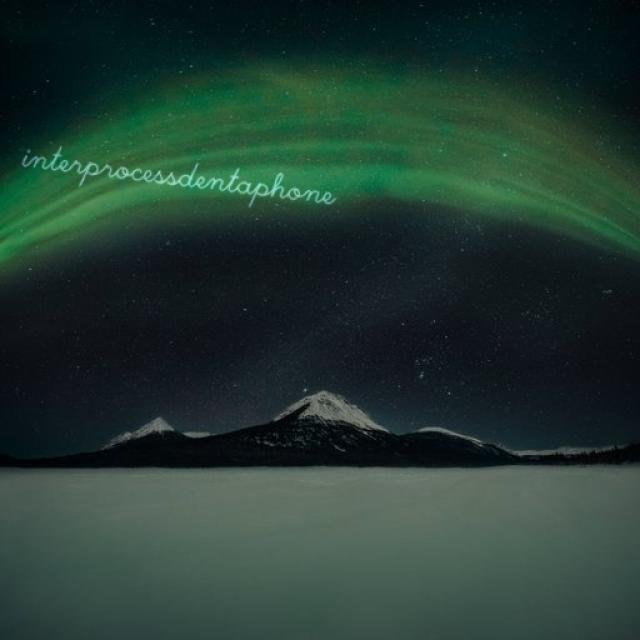watermark: (14, 138, 359, 210)
